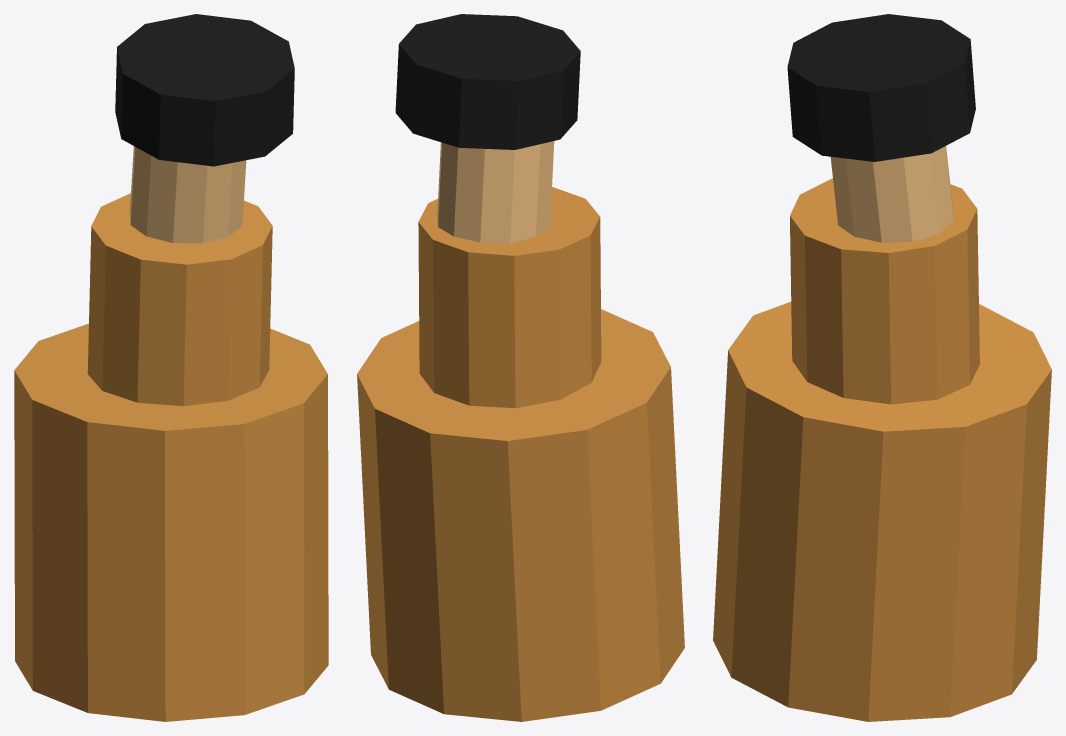
Rendered from bottle.fbx.
3 renders of one model, left to right at view 1: azimuth 30°, elevation 25°; view 2: azimuth 150°, elevation 25°; view 3: azimuth 270°, elevation 25°, orthographic. The views are drawn at different scales.
Parts seen in each view (by area): view 1: mesh_361246333, mesh_1459740013, group_1617653627, mesh_1807990474; view 2: mesh_361246333, mesh_1459740013, group_1617653627, mesh_1807990474; view 3: mesh_361246333, mesh_1459740013, group_1617653627, mesh_1807990474.
Boxes of the visible parts, x1,y1,x2,y2 form: mesh_361246333: (14, 323, 328, 721); mesh_1459740013: (87, 193, 272, 406); group_1617653627: (115, 14, 294, 166); mesh_1807990474: (130, 146, 246, 243); mesh_361246333: (357, 309, 684, 721); mesh_1459740013: (418, 187, 601, 408); group_1617653627: (395, 14, 580, 149); mesh_1807990474: (437, 141, 554, 243); mesh_361246333: (713, 301, 1051, 721); mesh_1459740013: (790, 178, 979, 404); group_1617653627: (787, 14, 975, 161); mesh_1807990474: (830, 146, 953, 242).
Size of the model in its own units: 19.44 by 40.63 by 19.85.
